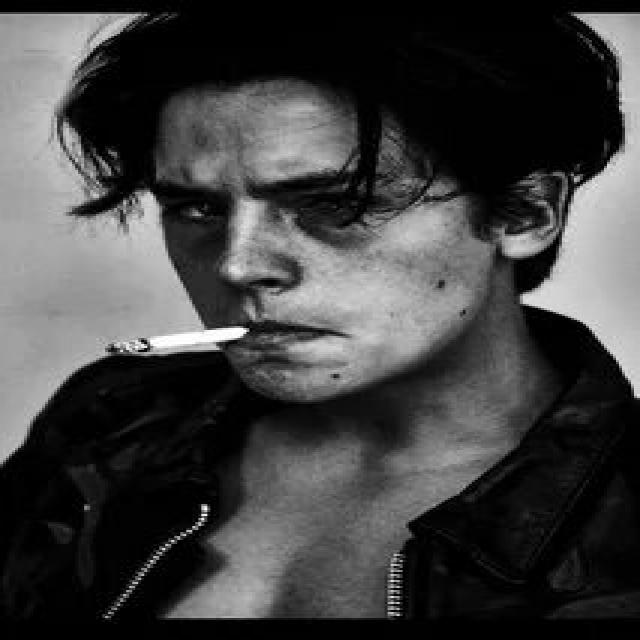smoke: (105, 324, 268, 356)
